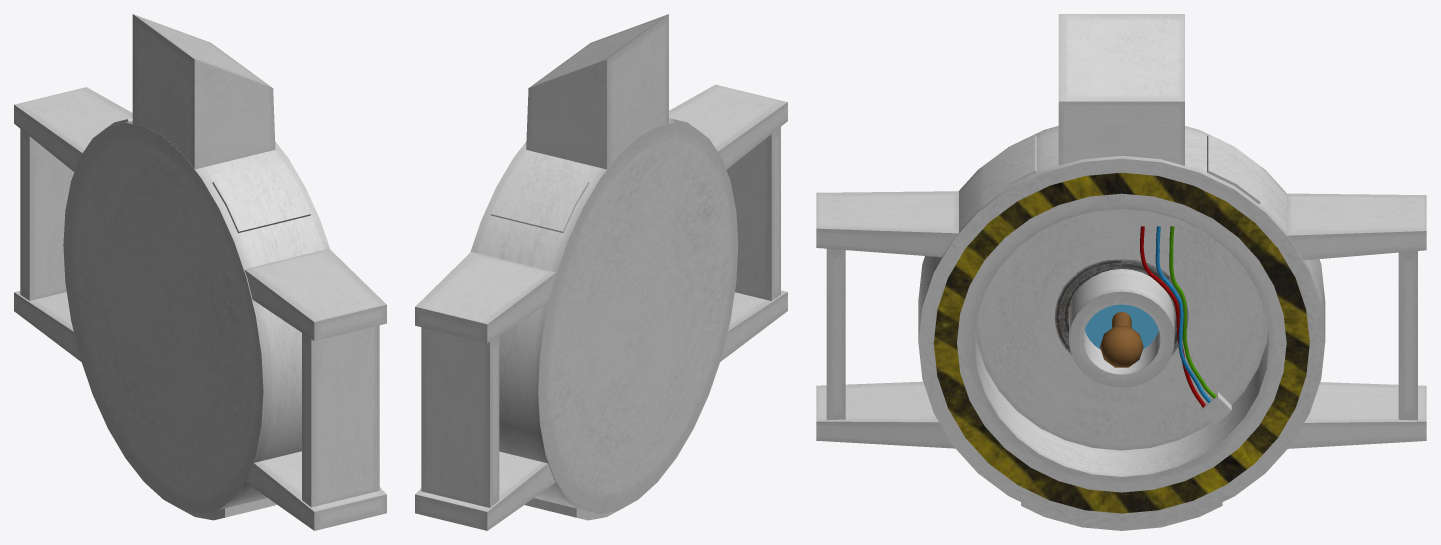
The model's file is SupplyPad.fbx.
3 views of the same model, side by side, from view 1: azimuth 30°, elevation 25°; view 2: azimuth 150°, elevation 25°; view 3: azimuth 270°, elevation 25° (orthographic).
Parts seen in each view (by area): view 1: Cylinder.003, Cube; view 2: Cylinder.003, Cube; view 3: Cube, Cylinder.003, Cylinder.004, Plane, Cylinder.001, Cylinder.002.
Part boxes in pixels (x1=…): Cylinder.003: x1=20, y1=121, x2=379, y2=513; Cube: x1=14, y1=14, x2=386, y2=530; Cylinder.003: x1=421, y1=121, x2=780, y2=513; Cube: x1=415, y1=14, x2=787, y2=530; Cube: x1=816, y1=14, x2=1426, y2=530; Cylinder.003: x1=826, y1=126, x2=1417, y2=527; Cylinder.004: x1=933, y1=172, x2=1309, y2=513; Plane: x1=1054, y1=259, x2=1188, y2=355; Cylinder.001: x1=1100, y1=311, x2=1143, y2=367; Cylinder.002: x1=1085, y1=304, x2=1158, y2=349.
Bounding box in the file's own units: 64.53 × 260 × 300.
5 materials, 3 textured.
